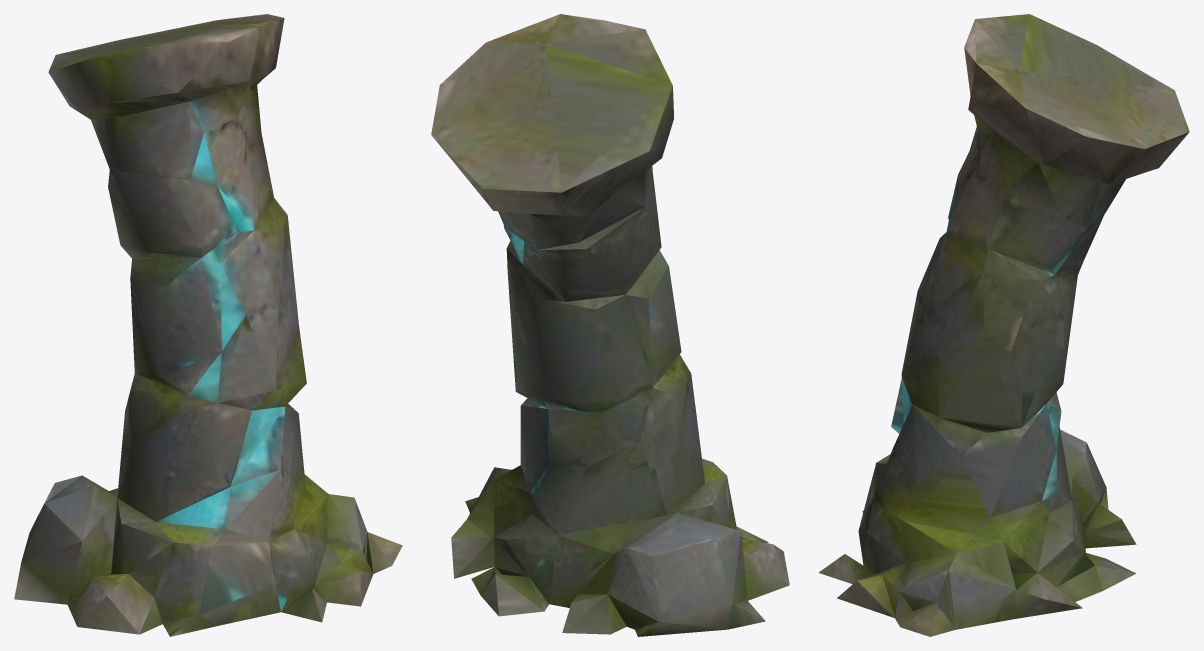
File: columna_agrietada_400.glb
3 renders of one model, left to right at view 1: azimuth 30°, elevation 25°; view 2: azimuth 150°, elevation 25°; view 3: azimuth 270°, elevation 25°, orthographic. The views are drawn at different scales.
Visible parts, largest first — view 1: columna_agrietada_malla; view 2: columna_agrietada_malla; view 3: columna_agrietada_malla.
Boxes of the visible parts, <box> form: columna_agrietada_malla: <box>14,14,402,636</box>; columna_agrietada_malla: <box>431,14,789,636</box>; columna_agrietada_malla: <box>818,14,1189,636</box>.
Bounding box in the file's own units: 0.2518 × 0.3775 × 0.2418.
Materials: 1 (1 with a texture image).
